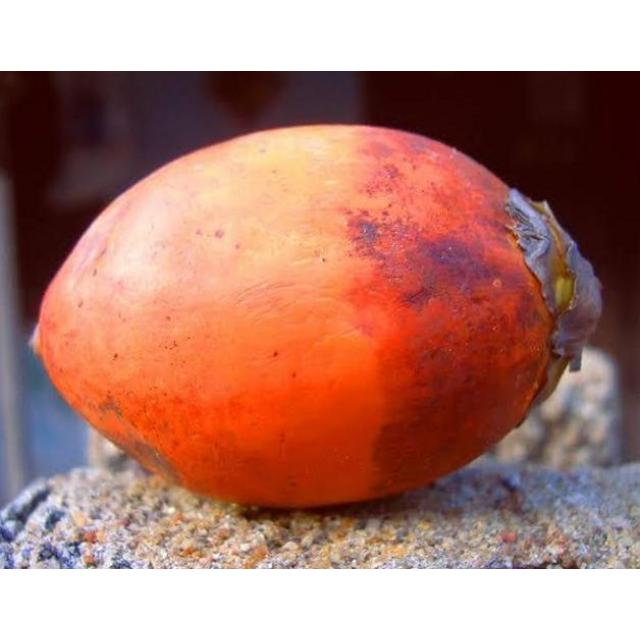good: (32, 125, 600, 512)
